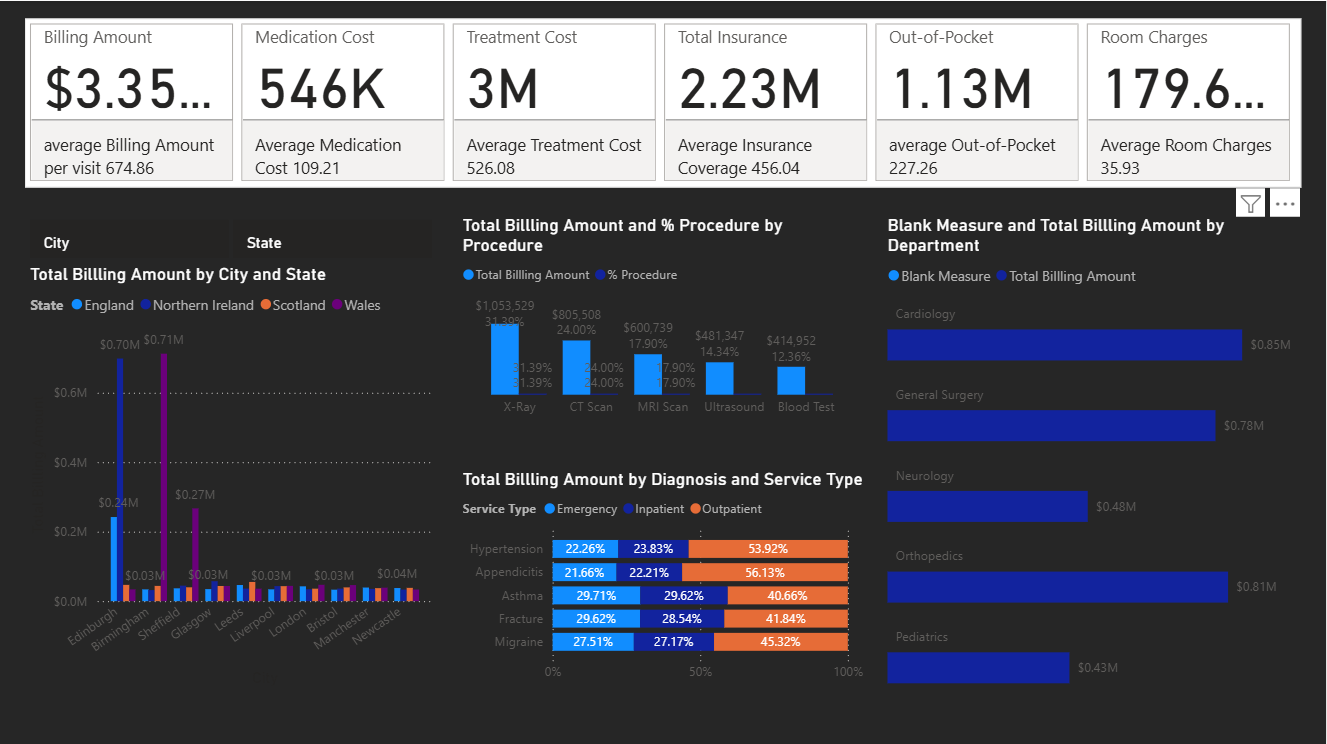

The dashboard page shown, as its layout file describes it:
{"tool":"powerbi","page":{"name":"Duplicate of Page 2","canvas":[1280,720],"ordinal":2},"visuals":[{"type":"cardVisual","fields":{"Data":["DAX_CALCULATION.Total Billling Amount","DAX_CALCULATION.Total Medication Covered","DAX_CALCULATION.Total Treatment Cost","DAX_CALCULATION.Total Insurance Covered","DAX_CALCULATION.Out-of-Pocket","DAX_CALCULATION.Total Room Charges"]},"box":[32.6,47.1,1214.9,138.7],"z":0},{"type":"lineStackedColumnComboChart","fields":{"Category":["cities.City"],"Y":["DAX_CALCULATION.Total Billling Amount"],"Series":["cities.State"]},"box":[24.1,253.4,398.1,412.6],"z":1000},{"type":"advancedSlicerVisual","fields":{"Values":["Parameter Location Switch.Parameter Location Switch"]},"box":[24.1,206.3,398.1,47.1],"z":2000},{"type":"clusteredColumnChart","fields":{"Category":["procedures.Procedure"],"Y":["DAX_CALCULATION.Total Billling Amount"]},"box":[441.6,206.3,396.9,203.9],"z":3000},{"type":"hundredPercentStackedBarChart","fields":{"Y":["DAX_CALCULATION.Total Billling Amount"],"Category":["diagnoses.Diagnosis"],"Series":["visits.Service Type"]},"box":[441.6,451.2,396.9,214.7],"z":4000},{"type":"clusteredBarChart","fields":{"Category":["departments.Department"],"Y":["DAX_CALCULATION.Total Billling Amount"]},"box":[851.7,206.3,395.7,459.7],"z":5000},{"type":"shape","box":[1153.4,9.7,105,24.1],"z":6000}]}

Visuals, with their boxes in screenshot pixels (x1, y1, x2, y2), scaled from the page's 1280x720 canvas onto the 1327x744 screenshot:
cardVisual - DAX_CALCULATION.Total Billling Amount x DAX_CALCULATION.Total Medication Covered: left=34, top=49, right=1293, bottom=192
lineStackedColumnComboChart - cities.City x DAX_CALCULATION.Total Billling Amount: left=25, top=262, right=438, bottom=688
advancedSlicerVisual - Parameter Location Switch.Parameter Location Switch: left=25, top=213, right=438, bottom=262
clusteredColumnChart - procedures.Procedure x DAX_CALCULATION.Total Billling Amount: left=458, top=213, right=869, bottom=424
hundredPercentStackedBarChart - DAX_CALCULATION.Total Billling Amount x diagnoses.Diagnosis: left=458, top=466, right=869, bottom=688
clusteredBarChart - departments.Department x DAX_CALCULATION.Total Billling Amount: left=883, top=213, right=1293, bottom=688
shape: left=1196, top=10, right=1305, bottom=35
